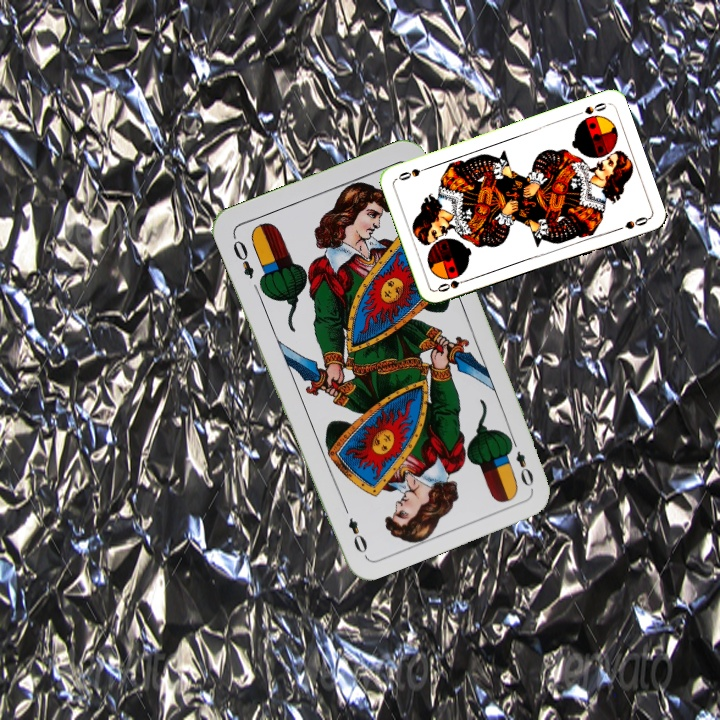EO: (504, 433, 536, 489), (228, 231, 257, 281)
SO: (433, 274, 473, 295), (571, 98, 611, 119)
